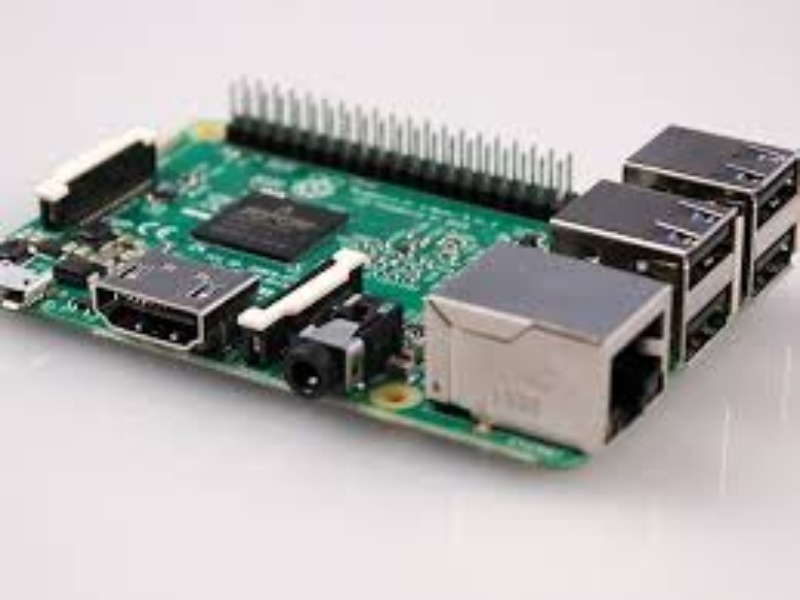raspberrypi: (7, 46, 798, 497)
